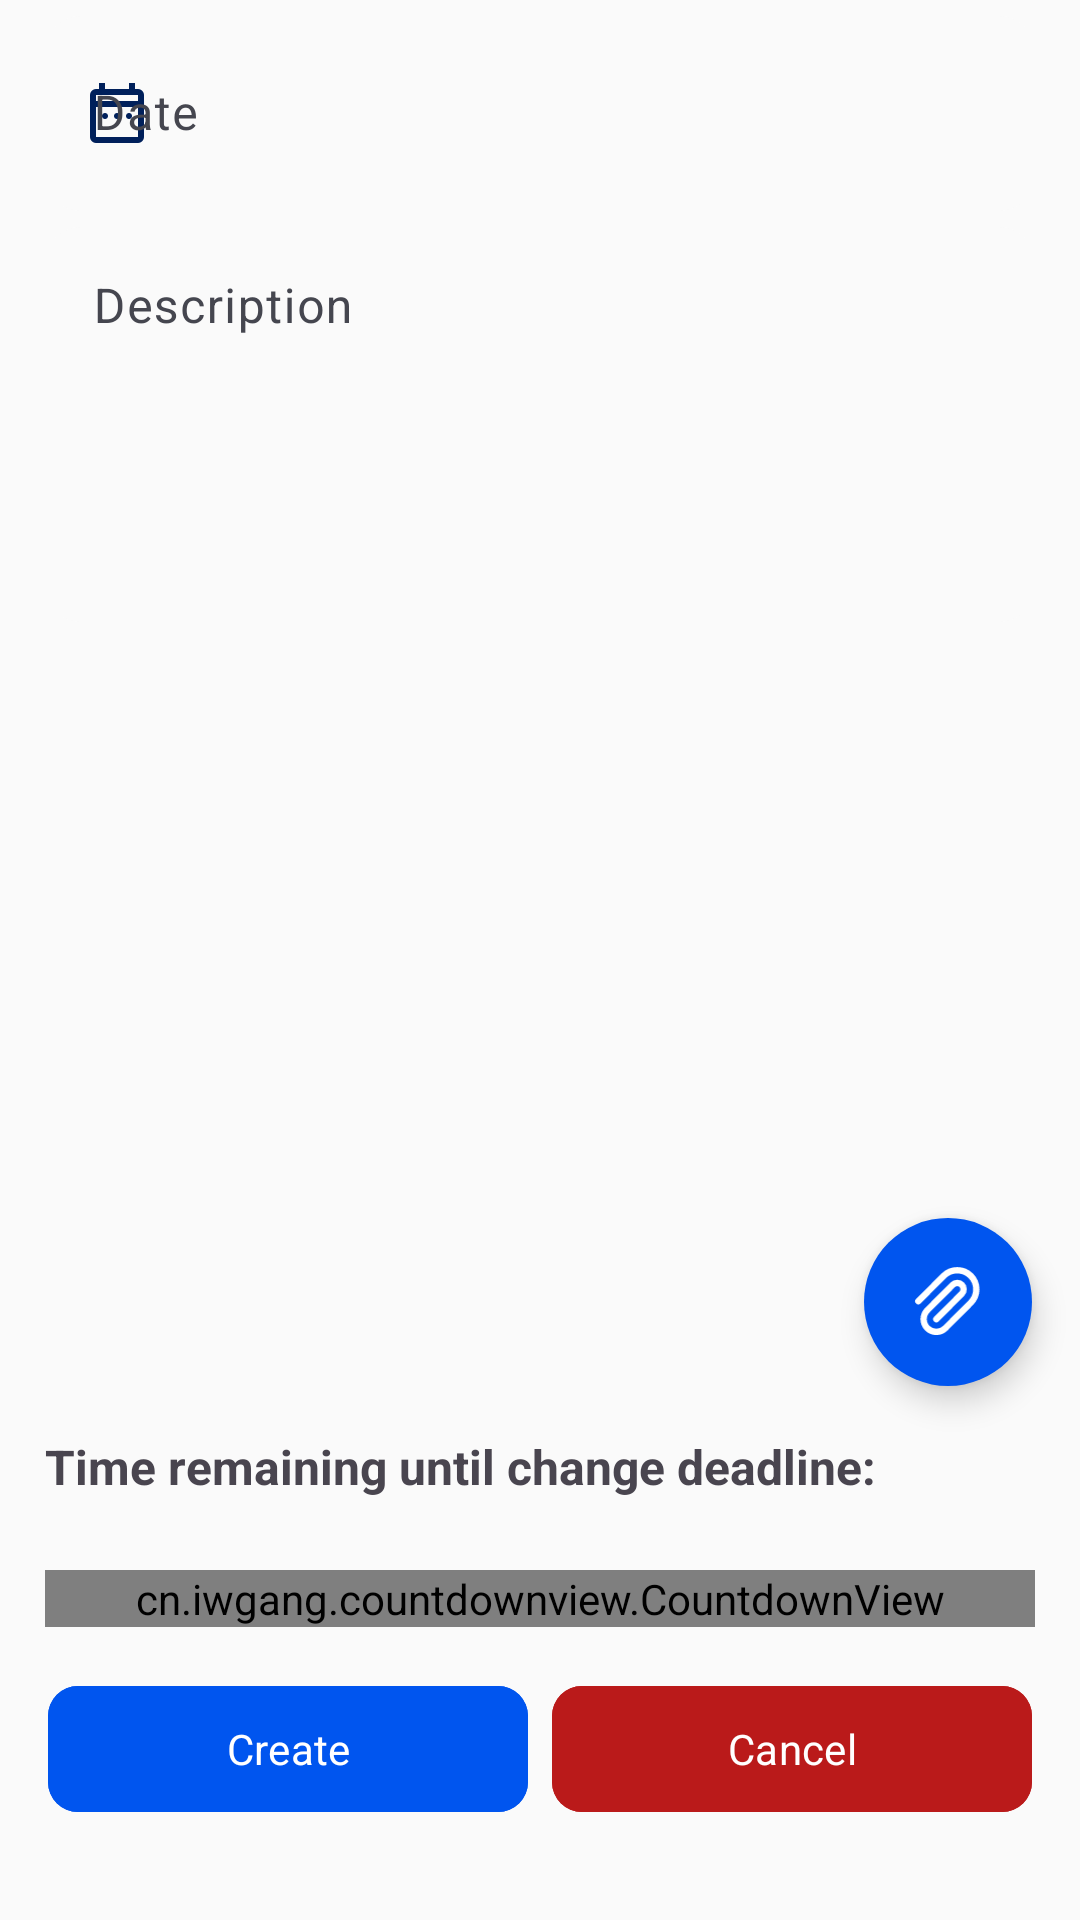

Icons on this 1080 × 1920 Android screen, each with its box as (x1, y1, x2, y2):
Add Attachment: (864, 1218, 1032, 1386)
